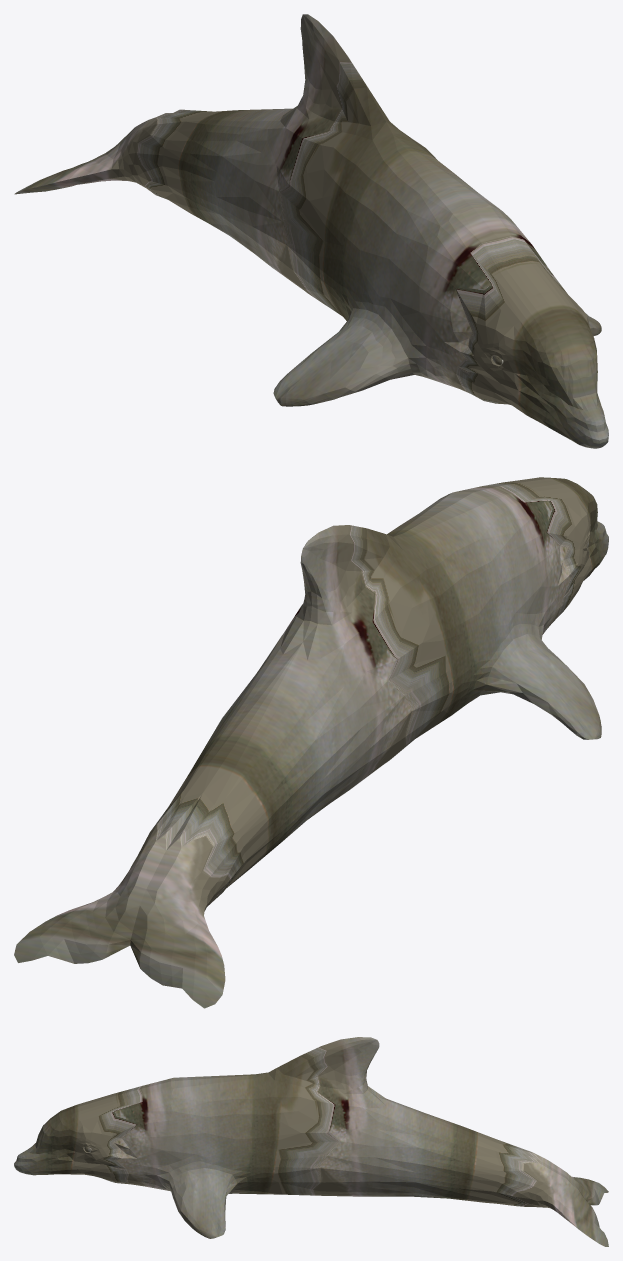
The model's file is DOLPHIN.OBJ.
The picture shows the model from 3 angles, top to bottom: view 1: azimuth 30°, elevation 25°; view 2: azimuth 150°, elevation 25°; view 3: azimuth 270°, elevation 25°; orthographic projection. The views are drawn at different scales.
Visible parts, largest first — view 1: dl_body; view 2: dl_body; view 3: dl_body.
Part boxes in pixels (x1,y1,x2,y2): dl_body: [14, 14, 608, 448]; dl_body: [14, 477, 608, 1008]; dl_body: [14, 1037, 608, 1246].
Size of the model in its own units: 0.8523 by 0.7685 by 2.27.
